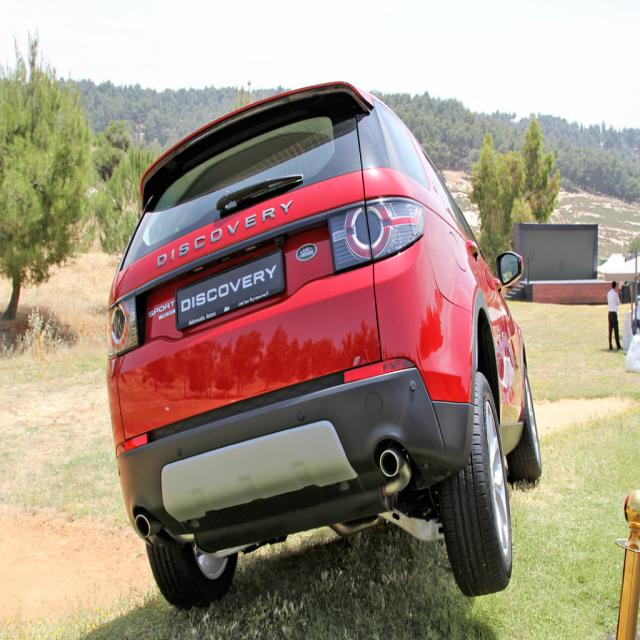car: (106, 79, 541, 607)
